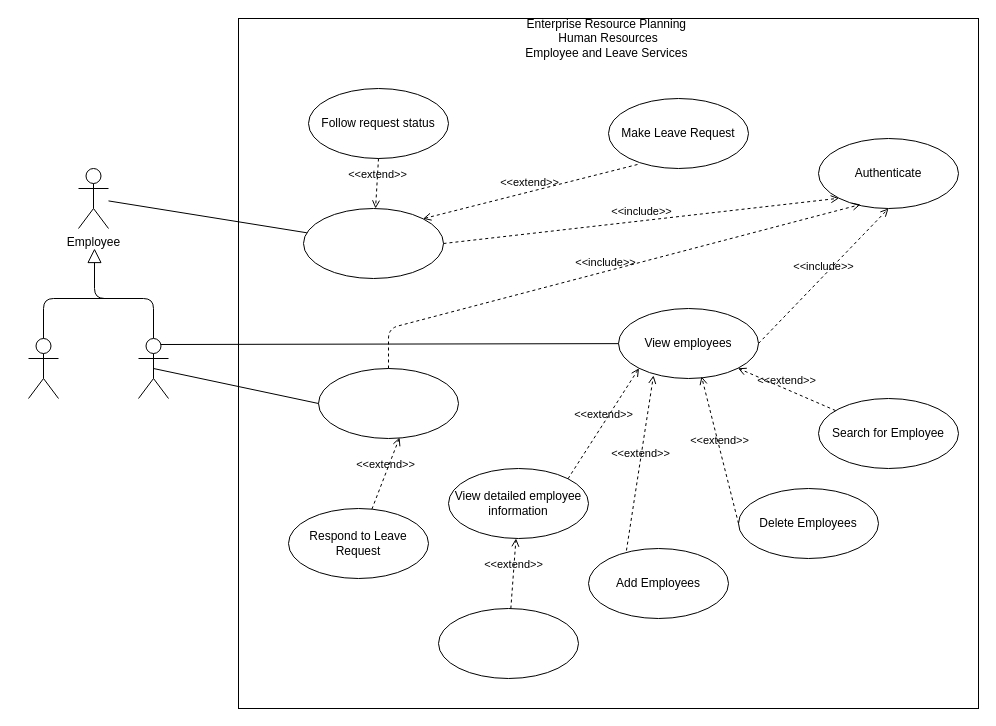
The diagram is 996 pixels wide and 726 high, and some of its shapes have lost their labels. Each missing label, with the box of its shape:
Any other Employee: (28, 338, 58, 398)
Department Manager: (138, 338, 168, 398)
Update Employee: (438, 608, 578, 678)
View all Employees Leave requests: (318, 368, 458, 438)
View all personal requests: (302, 208, 444, 278)
